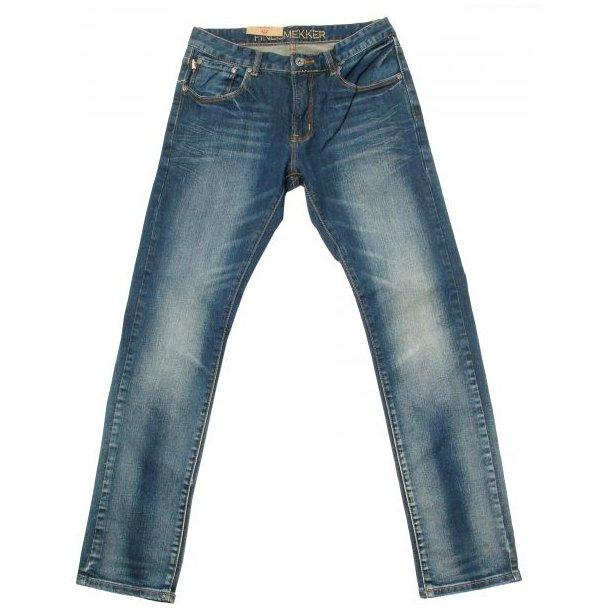Jeans: (70, 9, 530, 610)
